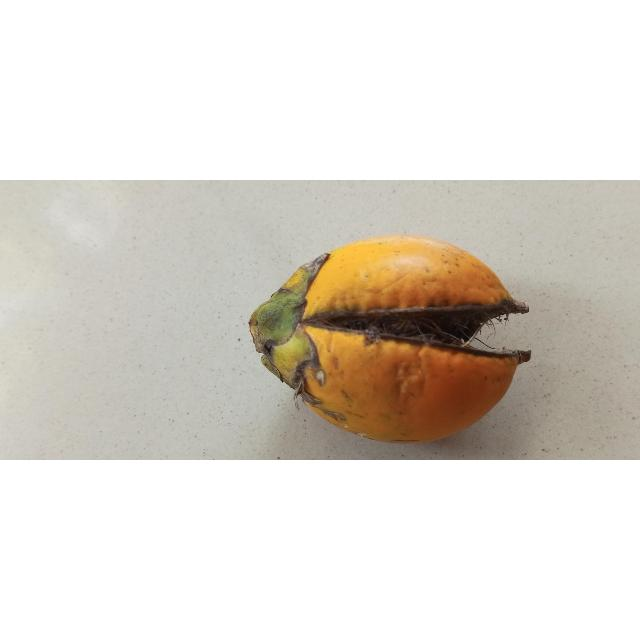damaged: (249, 235, 531, 443)
